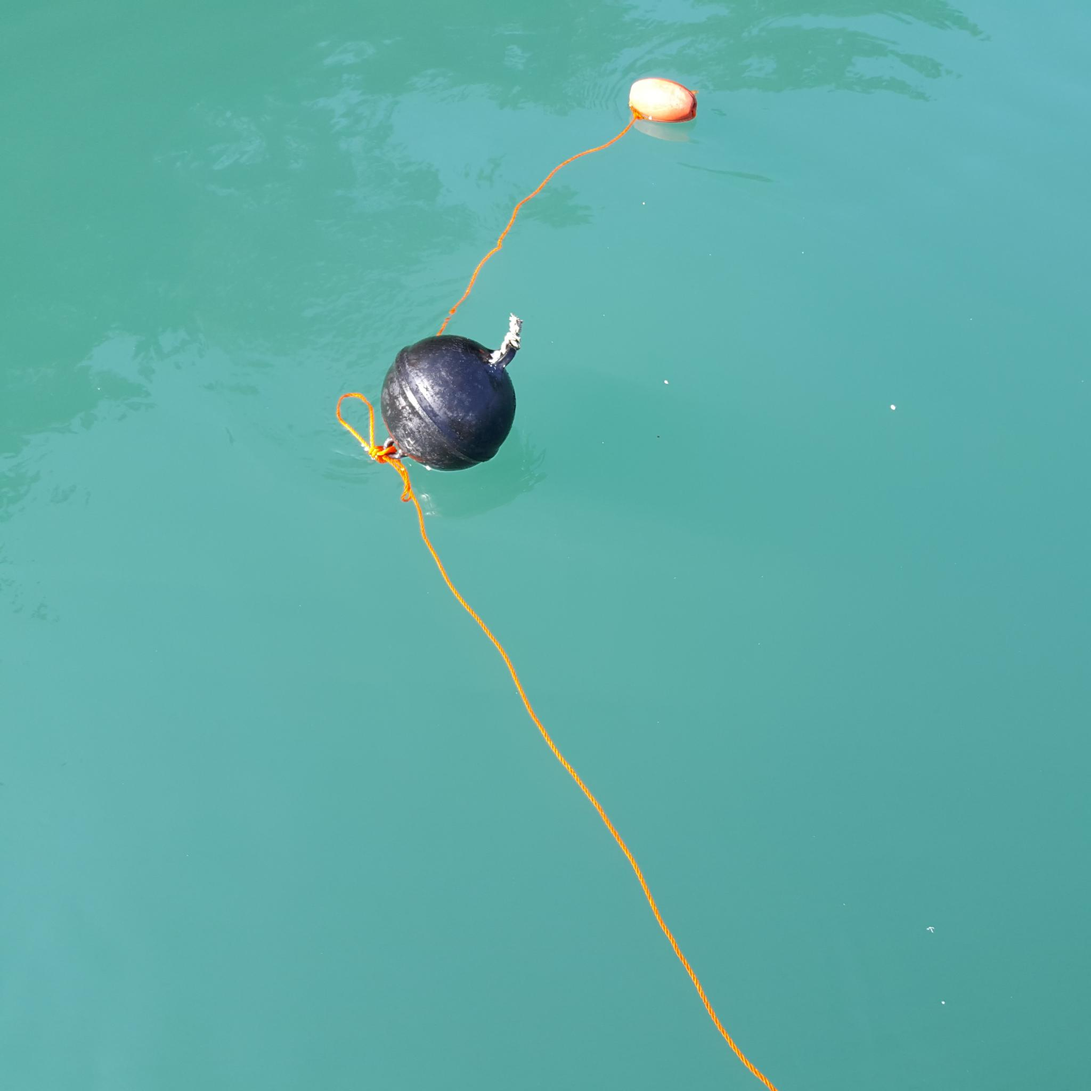sampah_terapung: (337, 393, 777, 1091), (437, 104, 643, 337), (381, 335, 517, 471), (629, 78, 697, 122), (501, 313, 523, 352)
